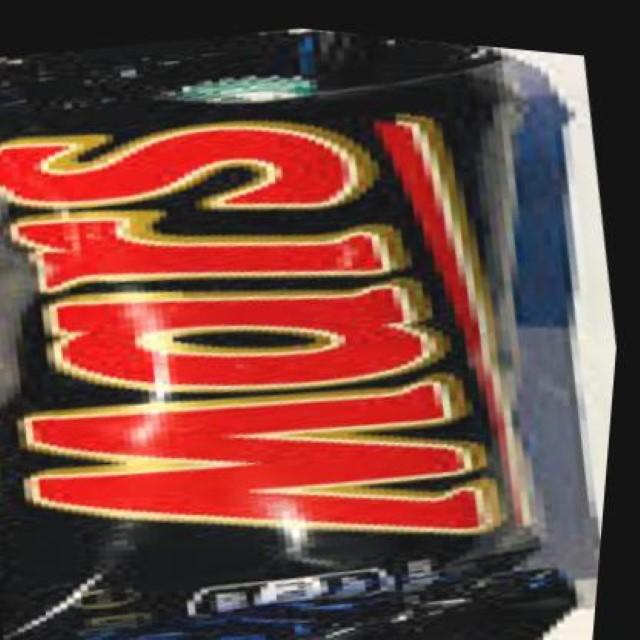mars_chocolate: (41, 53, 529, 640)
